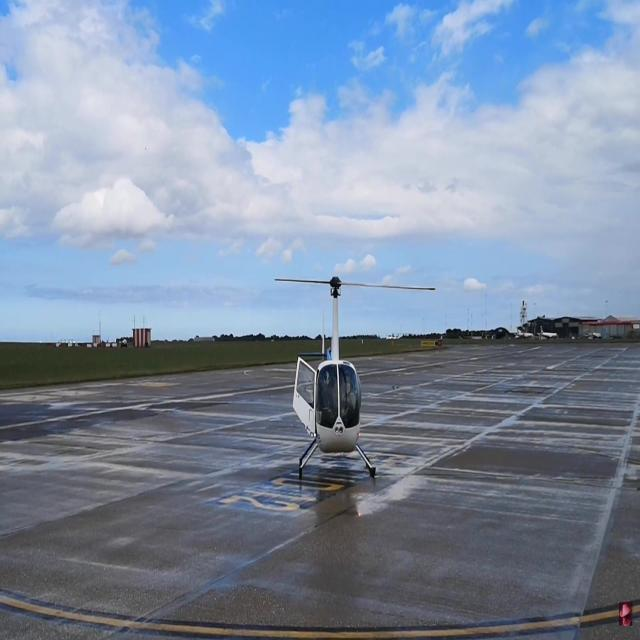CIV_HELO: (291, 274, 377, 480)
